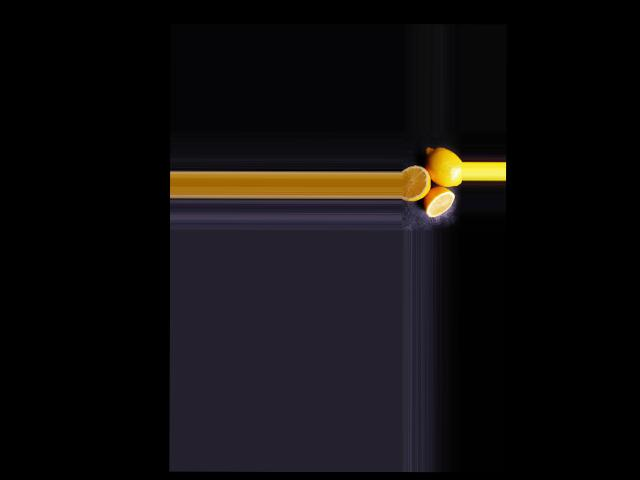lemon: (425, 144, 461, 189)
